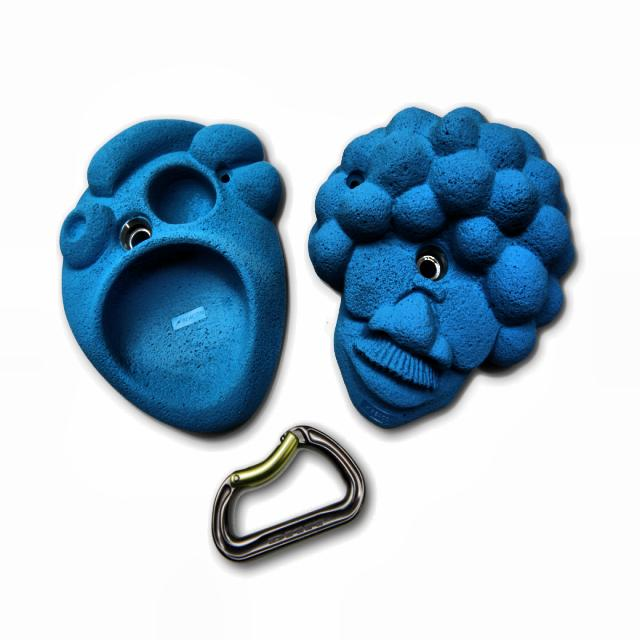Hold: (314, 94, 576, 432), (52, 109, 294, 440)
